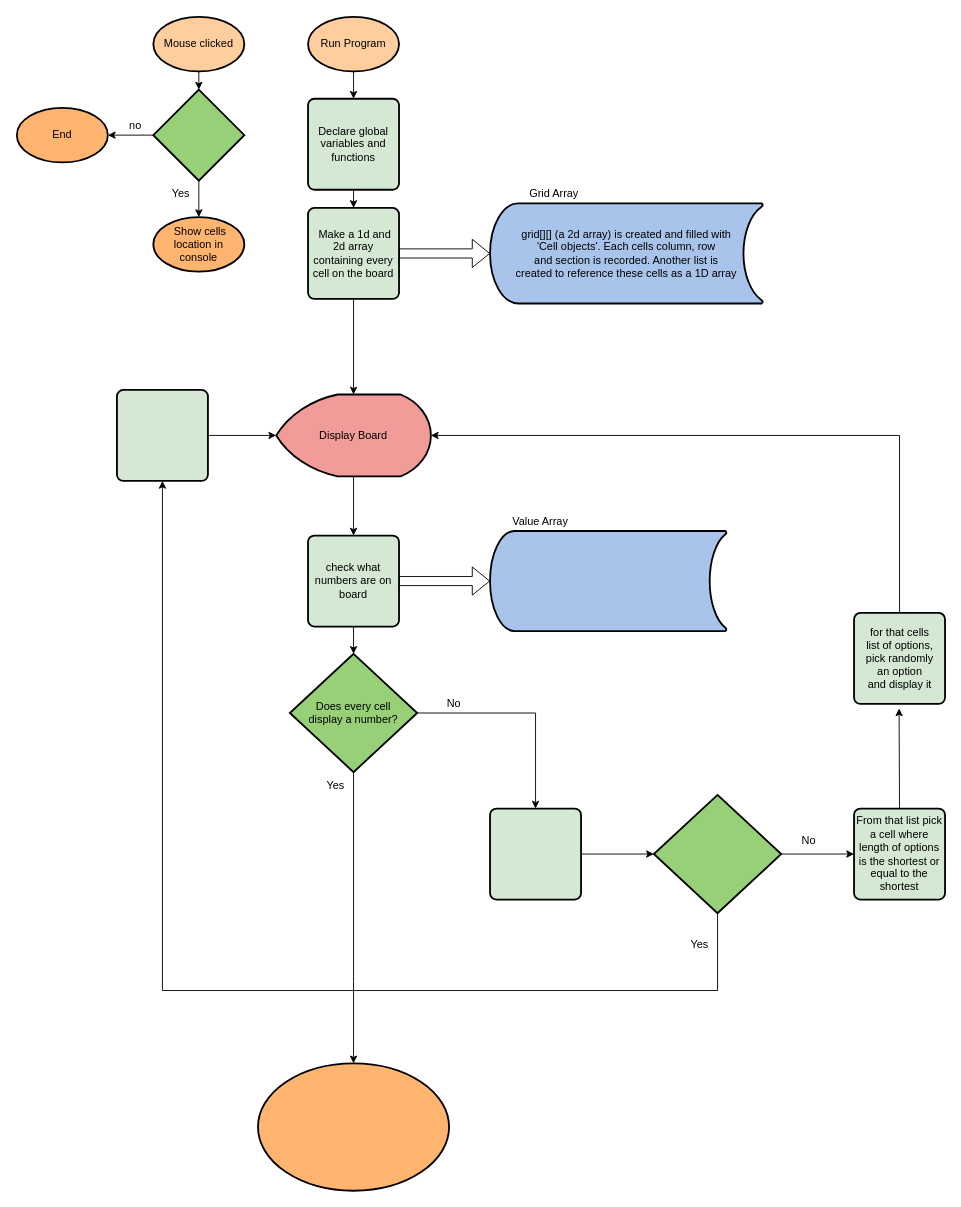
Image size: 961x1207. Some labels were removed from this diagram. The shapes that lost their labels are listed below. From the top down, each one's centre as x and y in pixels, then its label:
At pixel 198 134: "Mouse on a cell?".
At pixel 162 435: "For every cell in Grid array - set its value and options to default".
At pixel 608 581: "an array[][] is made to store the numbers in each column, row and section".
At pixel 535 853: "Sort the list of cells from least options to most".
At pixel 717 854: "Is there a cell with no options and no value?".
At pixel 353 1126: "Sudoku Generated".
